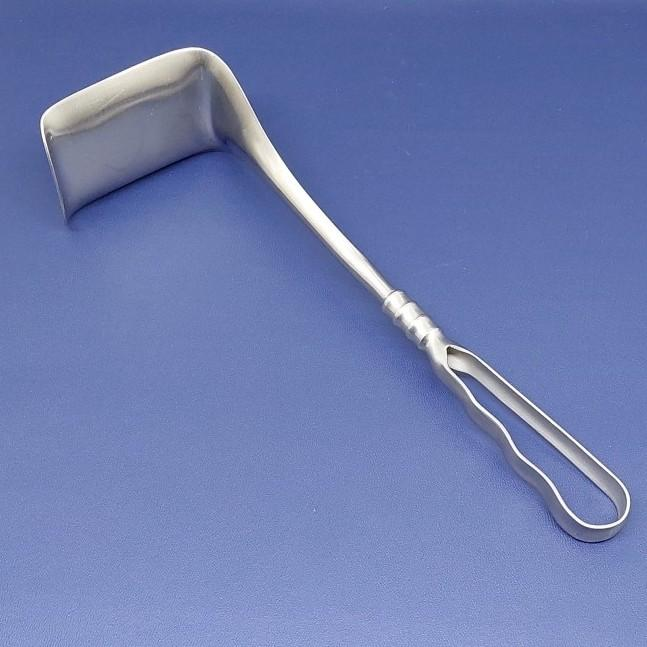Kelly Retractor: (28, 40, 635, 547)
